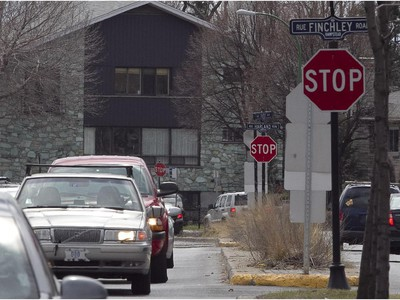stop: (303, 50, 364, 111), (250, 137, 277, 163), (154, 163, 167, 177)
